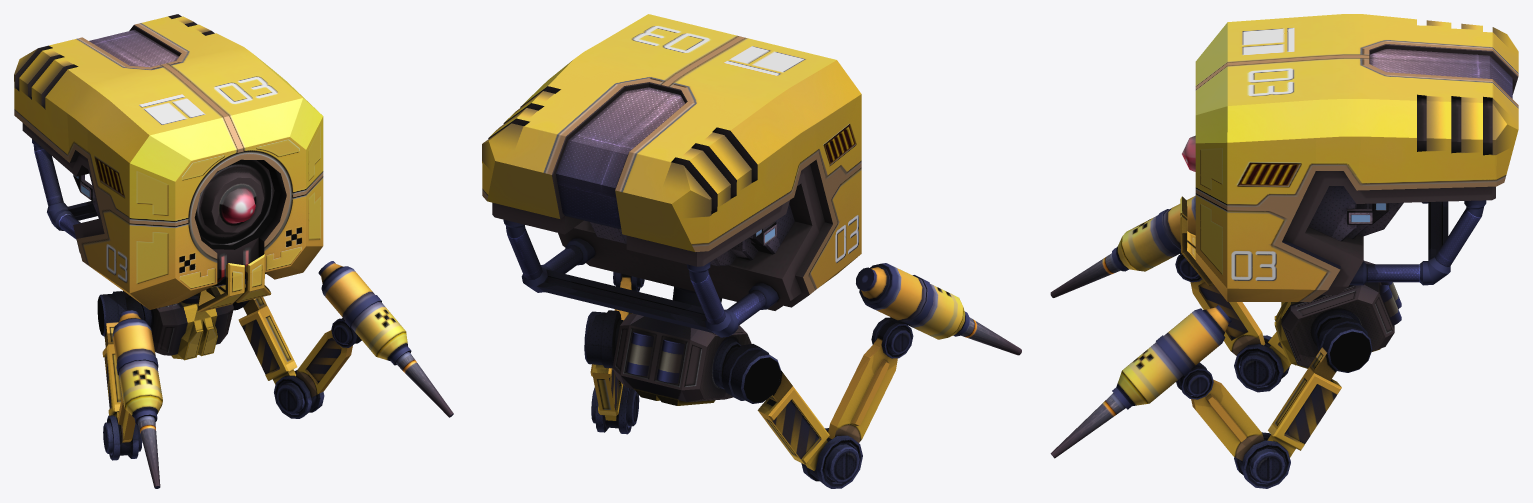
The model's file is Utility_Robot.obj.
3 views of the same model, side by side, from view 1: azimuth 30°, elevation 25°; view 2: azimuth 150°, elevation 25°; view 3: azimuth 270°, elevation 25° (orthographic). The views are drawn at different scales.
Visible parts, largest first — view 1: Box001; view 2: Box001; view 3: Box001.
Boxes of the visible parts, left/top/right/bottom form: Box001: left=14, top=14, right=453, bottom=488; Box001: left=482, top=14, right=1021, bottom=488; Box001: left=1050, top=14, right=1518, bottom=488.
Size of the model in its own units: 45.76 by 49.35 by 55.28.
Materials: 1 (1 with a texture image).
